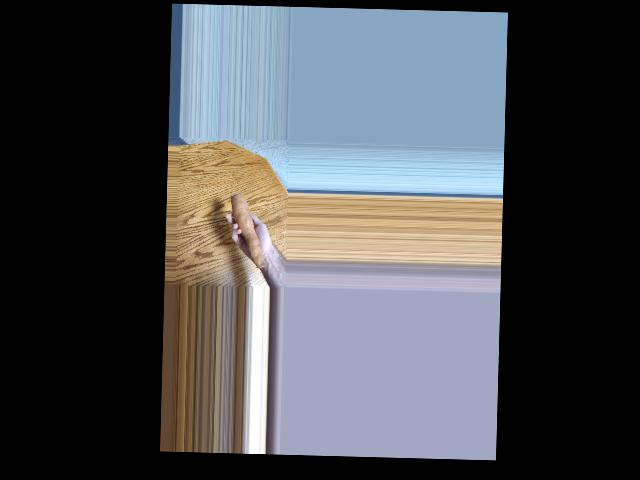sweet_potato: (227, 193, 268, 270)
